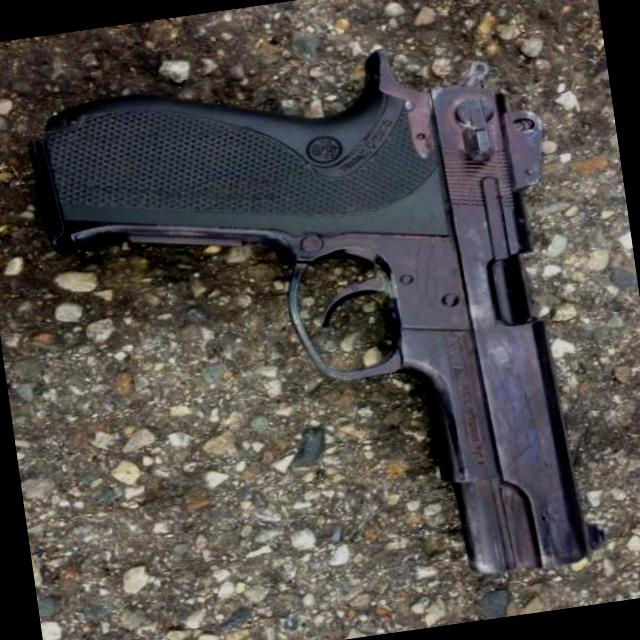handgun: (20, 18, 622, 635)
